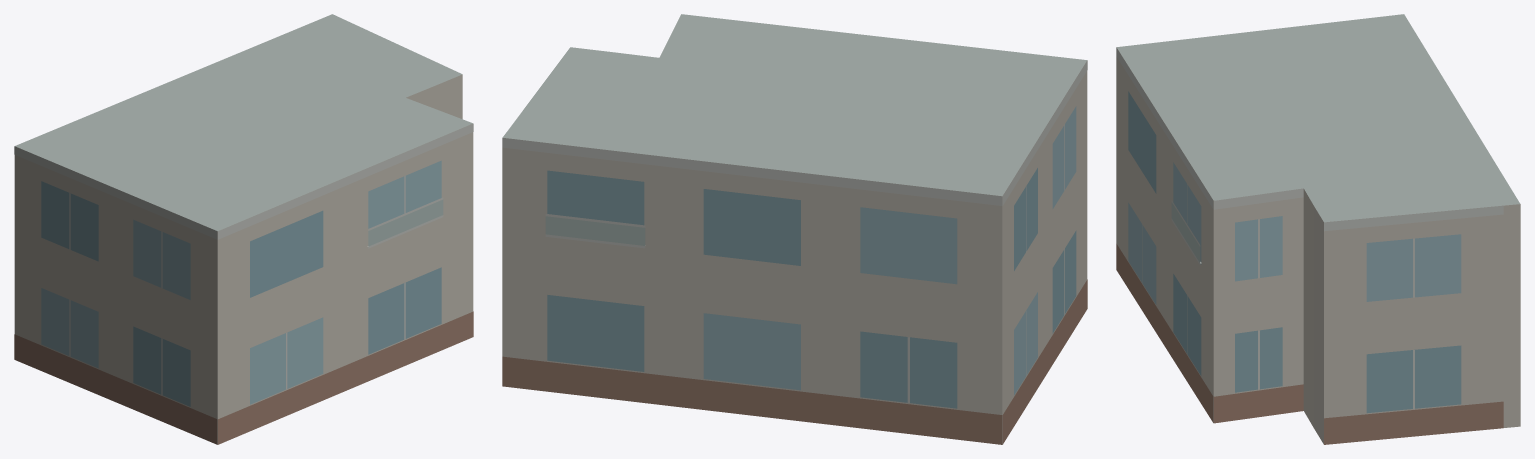
Rendered from survey-upis-32735683.glb.
The picture shows the model from 3 angles, left to right: view 1: azimuth 30°, elevation 25°; view 2: azimuth 150°, elevation 25°; view 3: azimuth 270°, elevation 25°; orthographic projection. The views are drawn at different scales.
Visible parts, largest first — view 1: survey-upis-32735683.tmp; view 2: survey-upis-32735683.tmp; view 3: survey-upis-32735683.tmp.
Part boxes in pixels (x1,y1,x2,y2): survey-upis-32735683.tmp: [14, 14, 473, 444]; survey-upis-32735683.tmp: [502, 14, 1087, 444]; survey-upis-32735683.tmp: [1116, 14, 1520, 444].
Size of the model in its own units: 12.26 by 6.1 by 10.05.
